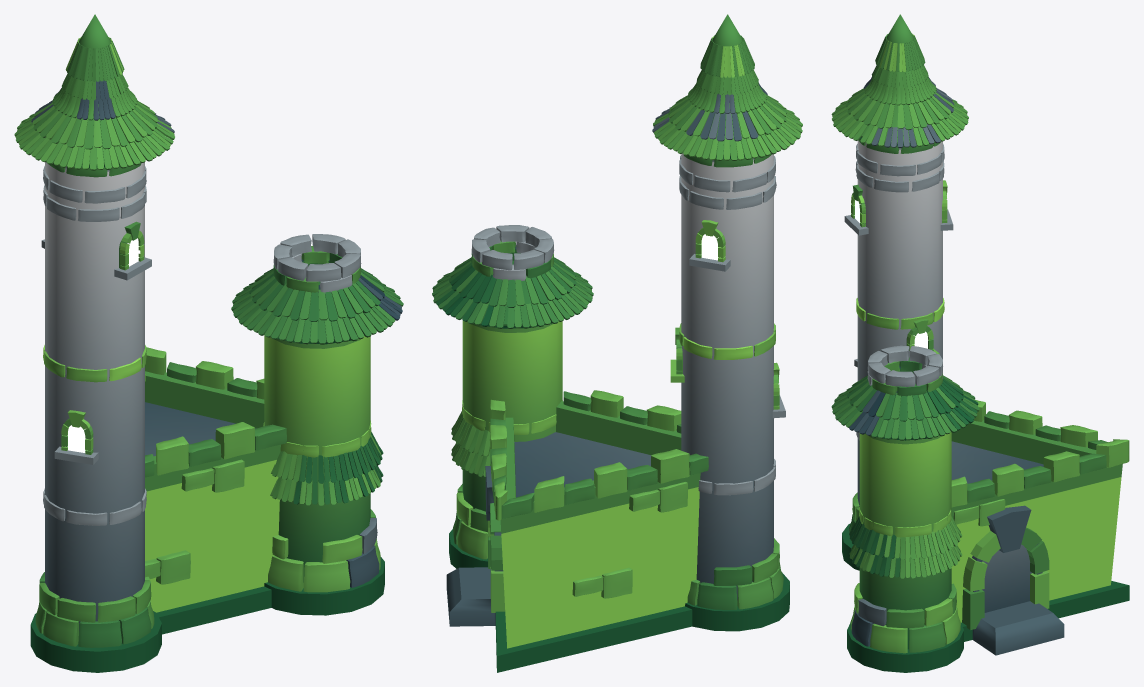
The model's file is MedievalCastle_1.glb.
The picture shows the model from 3 angles, left to right: view 1: azimuth 30°, elevation 25°; view 2: azimuth 150°, elevation 25°; view 3: azimuth 270°, elevation 25°; orthographic projection. The views are drawn at different scales.
Parts seen in each view (by area): view 1: TowerTall, Castle, TowerSmall, Window1, Window4; view 2: Castle, TowerTall, TowerSmall, MainGate, Window3; view 3: TowerSmall, Castle, TowerTall, MainGate, Window4, Window2.
Boxes of the visible parts, x1,y1,x2,y2 form: TowerTall: (14, 14, 174, 647); Castle: (30, 347, 384, 672); TowerSmall: (231, 234, 403, 592); Window1: (54, 410, 98, 464); Window4: (114, 221, 151, 280); Castle: (449, 390, 789, 672); TowerTall: (652, 14, 802, 609); TowerSmall: (432, 225, 593, 559); MainGate: (446, 466, 505, 626); Window3: (689, 220, 730, 271); TowerSmall: (831, 345, 979, 653); Castle: (842, 399, 1129, 672); TowerTall: (831, 14, 968, 541); MainGate: (962, 505, 1064, 655); Window4: (844, 184, 868, 235); Window2: (906, 319, 939, 354).
Bounding box in the file's own units: 3.41 × 5.56 × 2.78.
Materials: 2 (1 with a texture image).
